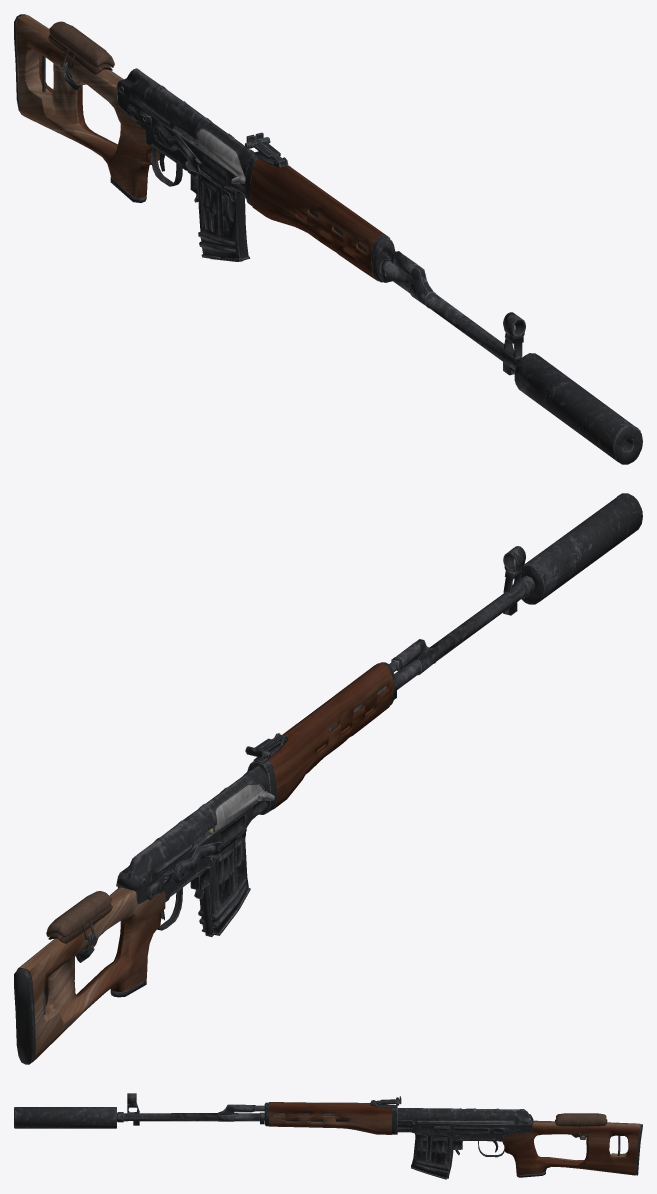
File: Sniper_SVD.fbx
The picture shows the model from 3 angles, top to bottom: view 1: azimuth 30°, elevation 25°; view 2: azimuth 150°, elevation 25°; view 3: azimuth 270°, elevation 25°; orthographic projection. The views are drawn at different scales.
Visible parts, largest first — view 1: GunMesh; view 2: GunMesh; view 3: GunMesh.
Boxes of the visible parts, x1,y1,x2,y2 form: GunMesh: [14, 14, 642, 464]; GunMesh: [14, 493, 642, 1064]; GunMesh: [14, 1093, 642, 1179].
Bounding box in the file's own units: 0.0421 × 0.1811 × 1.22.
Materials: 1 (1 with a texture image).
